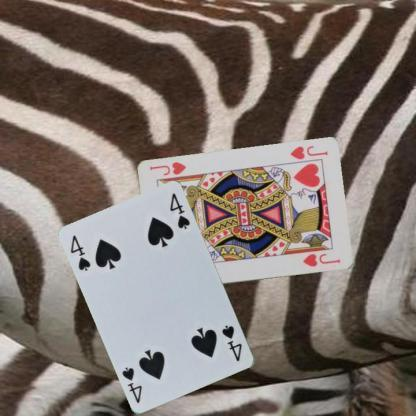4s: (218, 322, 244, 363), (68, 233, 93, 273)
Jh: (287, 143, 329, 161)
